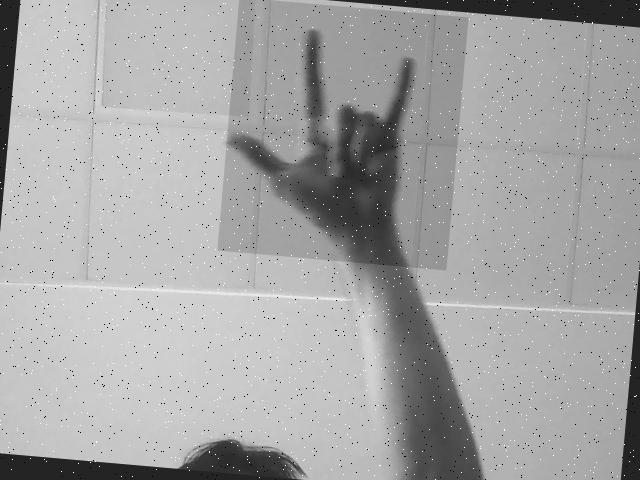I_Love_You: (216, 0, 468, 270)
